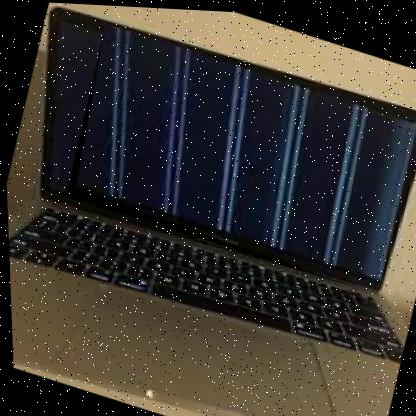lines: (57, 19, 415, 294)
